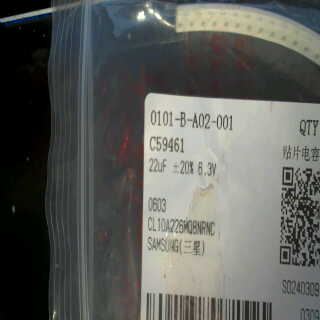22uF: (146, 155, 170, 176)
